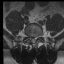CCS_stenosis: (32, 34, 34, 44)
LFS_normal: (36, 33, 39, 40)
LLS_normal: (34, 34, 36, 43)
RFS_stenosis: (27, 33, 30, 40)
RLS_normal: (30, 34, 32, 44)
